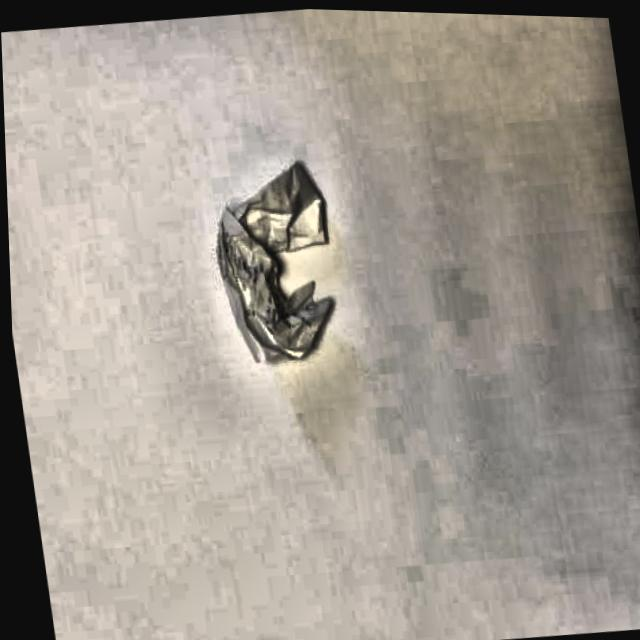Paper: (201, 153, 343, 369)
